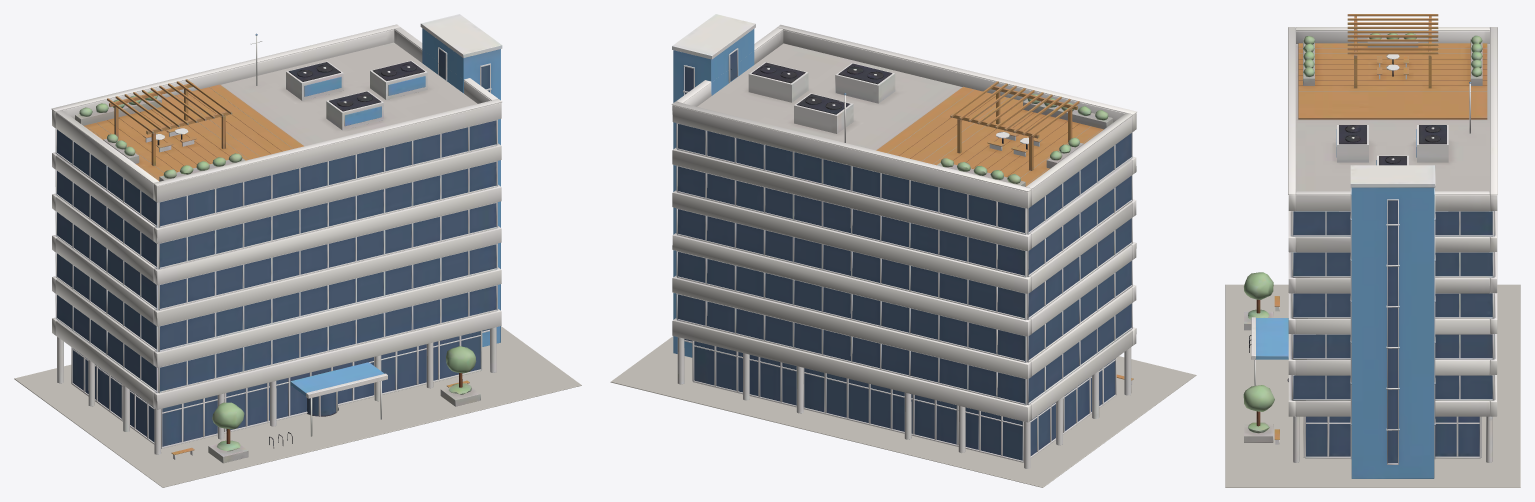
The model's file is office-building.glb.
The picture shows the model from 3 angles, left to right: view 1: azimuth 30°, elevation 25°; view 2: azimuth 150°, elevation 25°; view 3: azimuth 270°, elevation 25°; orthographic projection. The views are drawn at different scales.
Visible parts, largest first — view 1: office-building_facade, office-building_shell, office-building_body, office-building_ground_slab; view 2: office-building_facade, office-building_shell, office-building_body, office-building_ground_slab; view 3: office-building_facade, office-building_body, office-building_ground_slab, office-building_shell.
Part boxes in pixels (x1,y1,x2,y2): office-building_facade: [55, 14, 502, 393]; office-building_shell: [51, 24, 502, 409]; office-building_body: [57, 33, 496, 463]; office-building_ground_slab: [14, 326, 581, 487]; office-building_facade: [672, 14, 1132, 405]; office-building_shell: [671, 24, 1136, 422]; office-building_body: [677, 43, 1133, 468]; office-building_ground_slab: [610, 336, 1196, 487]; office-building_facade: [1290, 165, 1495, 478]; office-building_body: [1243, 14, 1492, 462]; office-building_ground_slab: [1225, 284, 1520, 487]; office-building_shell: [1288, 27, 1497, 416].
Bounding box in the file's own units: 36.1 × 25.56 × 22.2.
4 materials, 3 textured.
